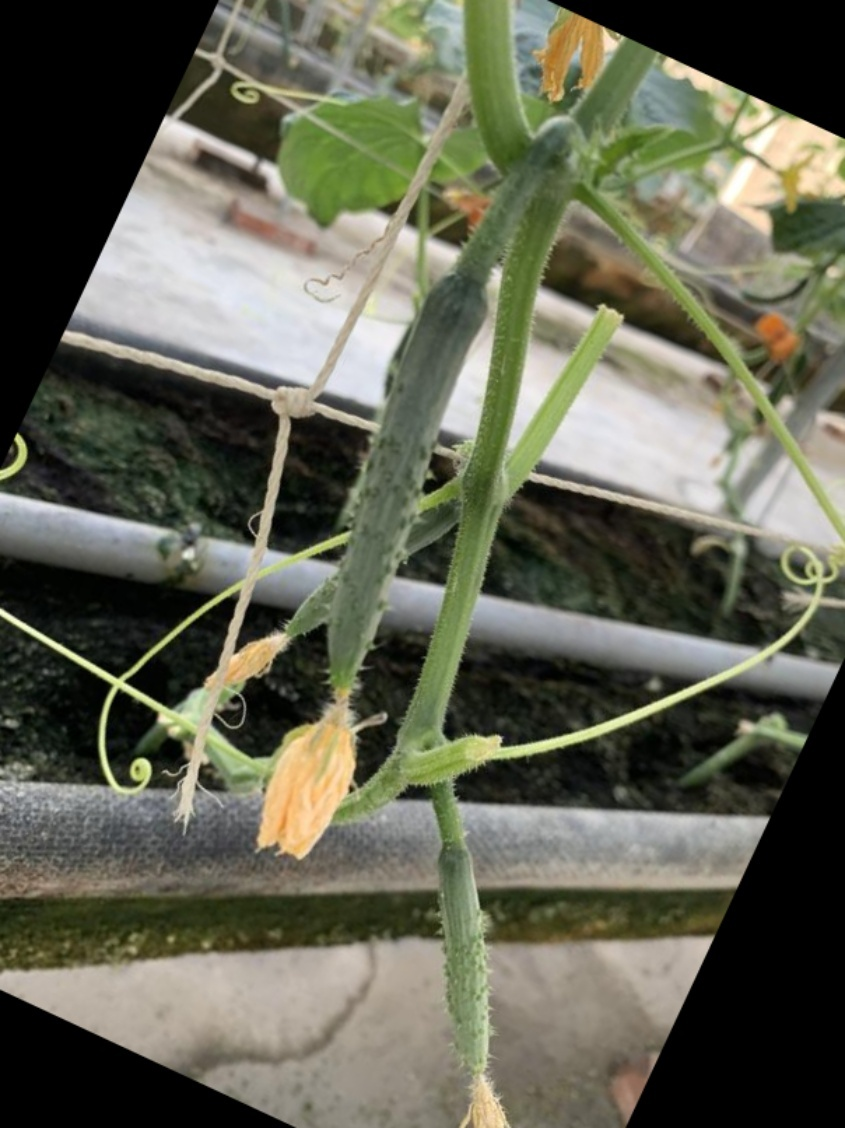bear: (410, 828, 538, 1127)
growth: (238, 263, 496, 862)
